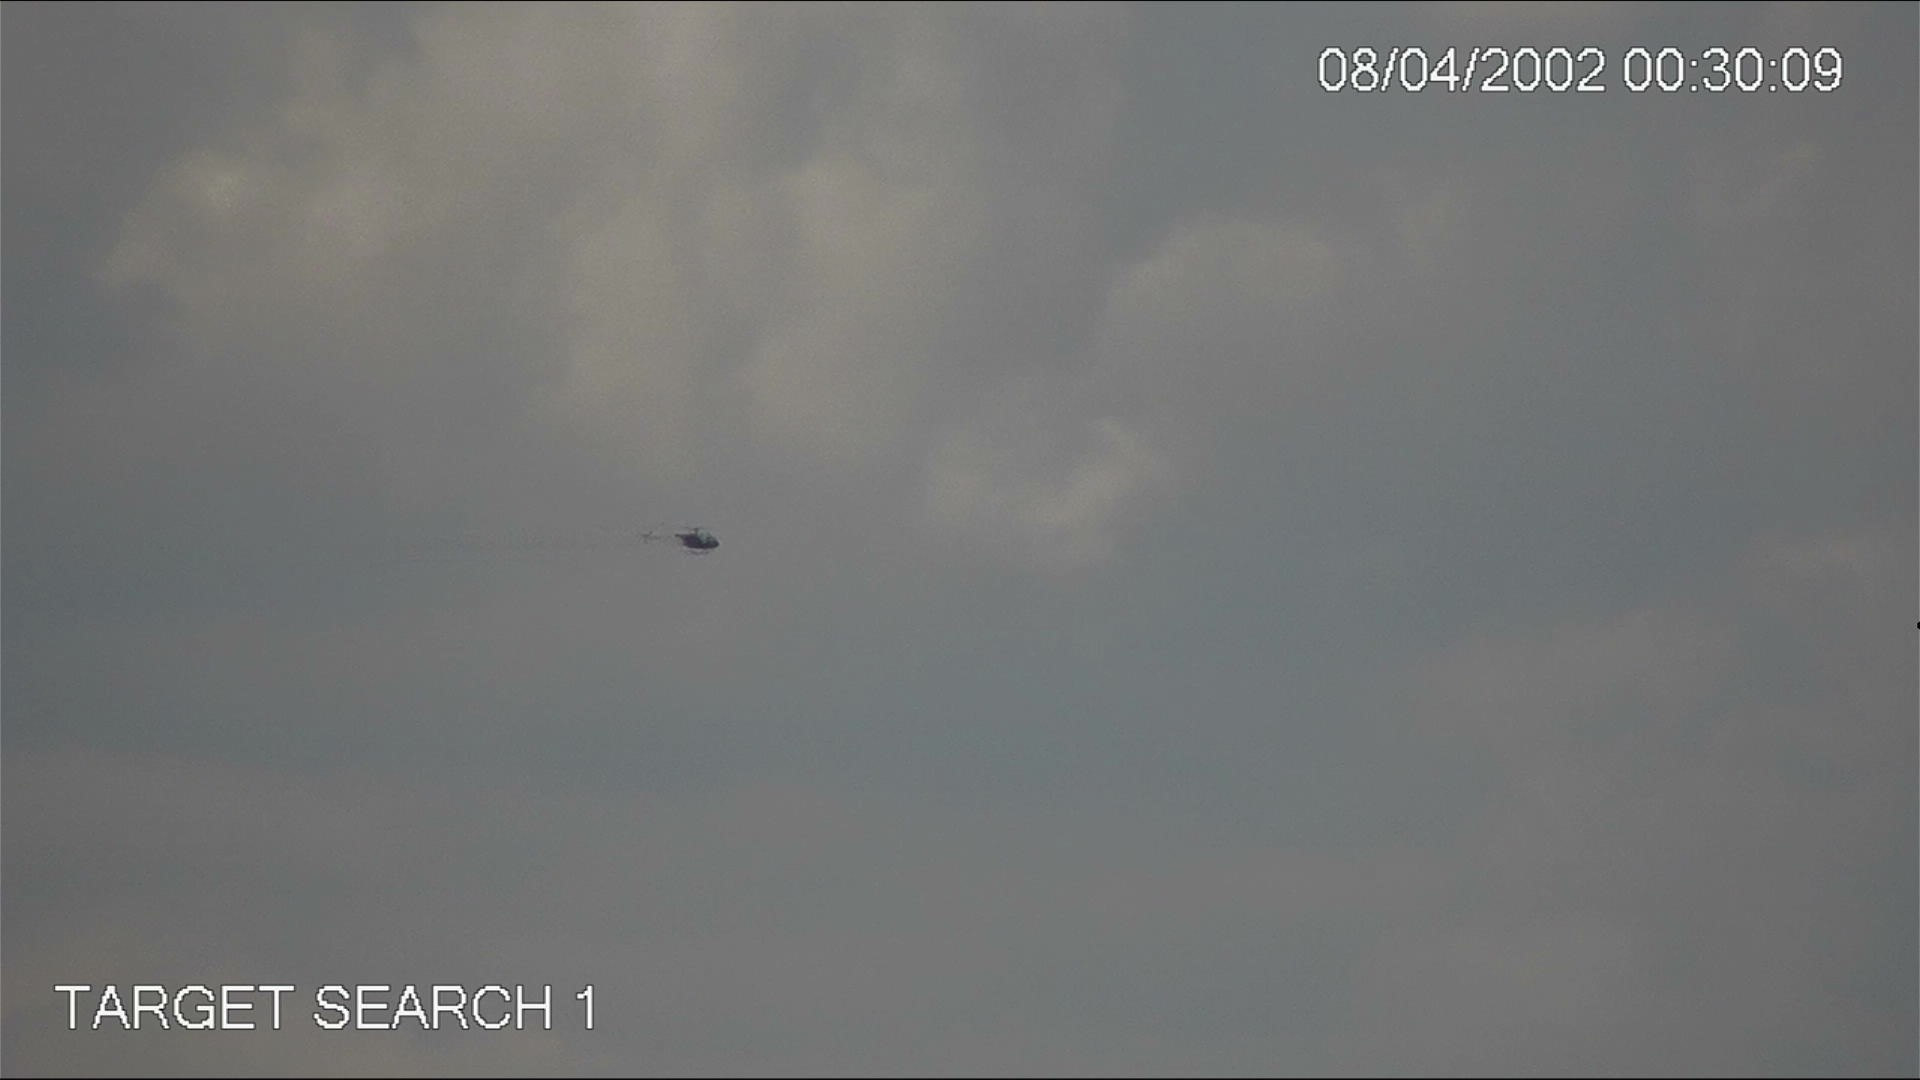SU_30: (640, 522, 723, 556)
